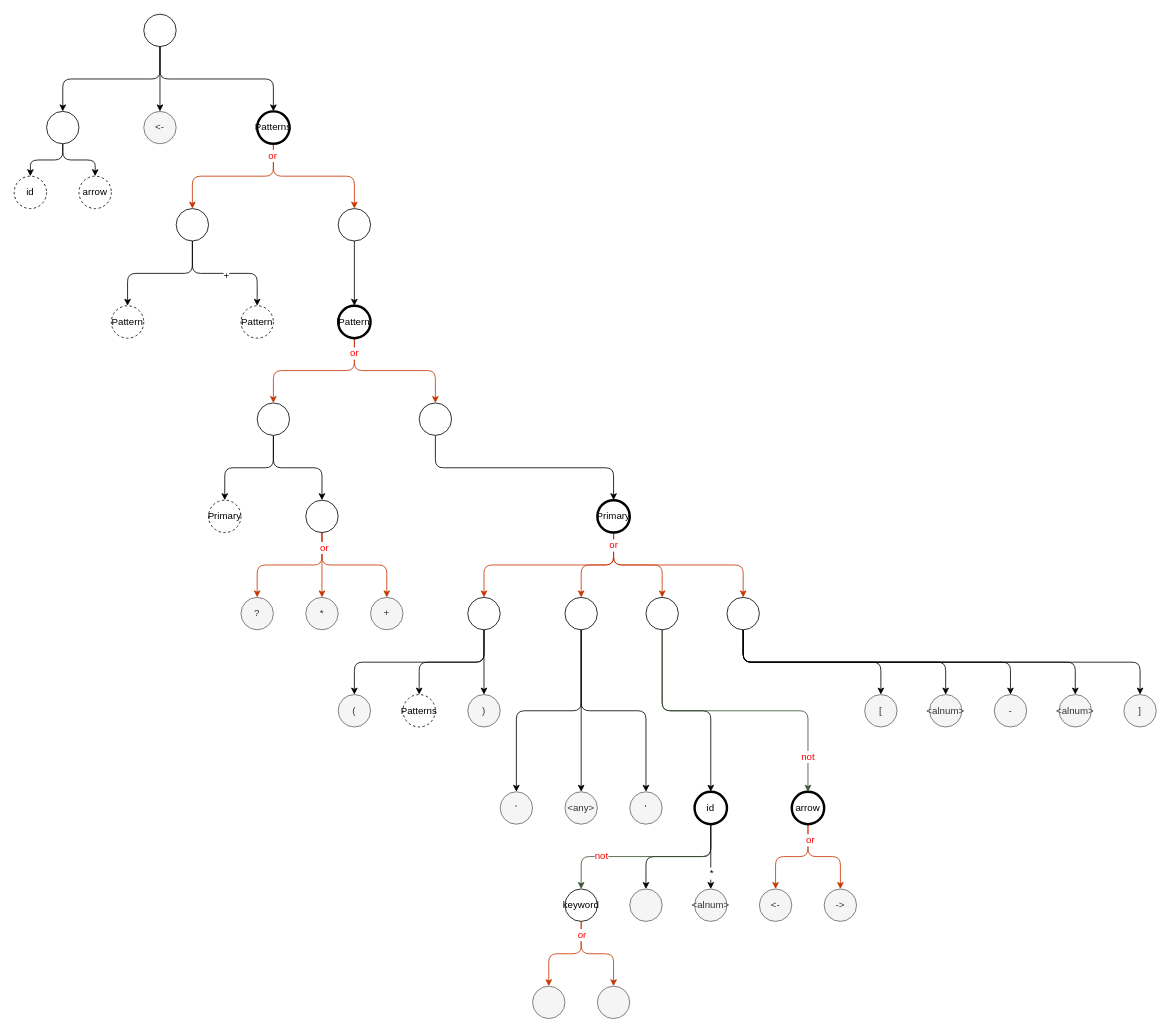
Some shapes in this 1170 by 1033 pixel diagram are drawn without their labels. The shapes that lost their labels are listed below. From the top down, each one's box as (x1, y1, x2, y2) in pixels, then its label:
(143, 13, 176, 47): Rule
(46, 111, 79, 144): Rid
(175, 208, 209, 241): MultiplePatterns
(337, 208, 371, 241): SinglePattern
(256, 402, 290, 435): PatternWithOperator
(418, 402, 452, 435): PatternWithoutOperator
(305, 499, 338, 533): Operator
(467, 597, 500, 630): Parenthesized Primary
(564, 597, 597, 630): quoted
(645, 597, 678, 630): Rule Reference
(726, 597, 759, 630): Range
(629, 888, 662, 921): <letter>
(532, 985, 565, 1019): match
(597, 985, 630, 1019): output
